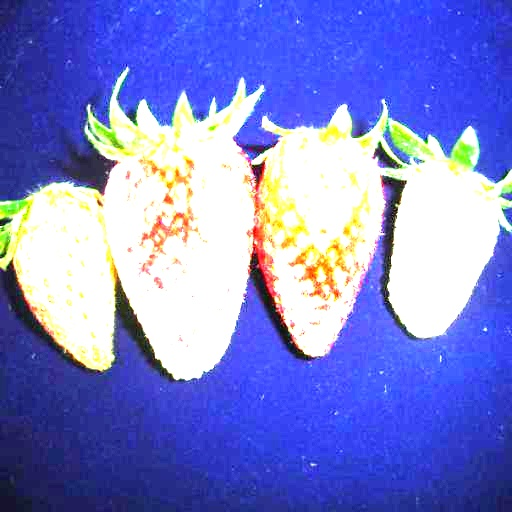Powdery Mildew Fruit: (103, 126, 256, 381), (253, 127, 384, 357), (387, 158, 500, 338)
